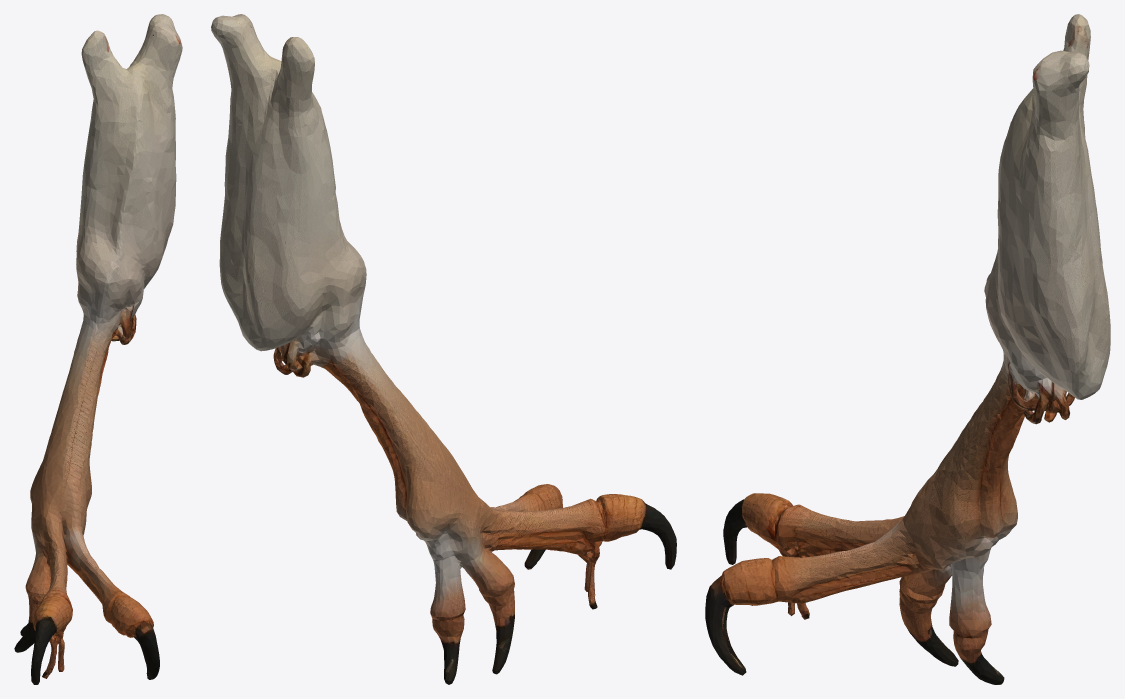
File: foot (36).glb
The picture shows the model from 3 angles, left to right: view 1: azimuth 30°, elevation 25°; view 2: azimuth 150°, elevation 25°; view 3: azimuth 270°, elevation 25°; orthographic projection. The views are drawn at different scales.
Visible parts, largest first — view 1: Hy21_Mesh.obj; view 2: Hy21_Mesh.obj; view 3: Hy21_Mesh.obj.
Boxes of the visible parts, x1,y1,x2,y2 form: Hy21_Mesh.obj: [14, 14, 182, 684]; Hy21_Mesh.obj: [211, 14, 676, 684]; Hy21_Mesh.obj: [705, 14, 1110, 684].
Size of the model in its own units: 0.9943 by 1.96 by 0.9768.
Materials: 1 (1 with a texture image).
